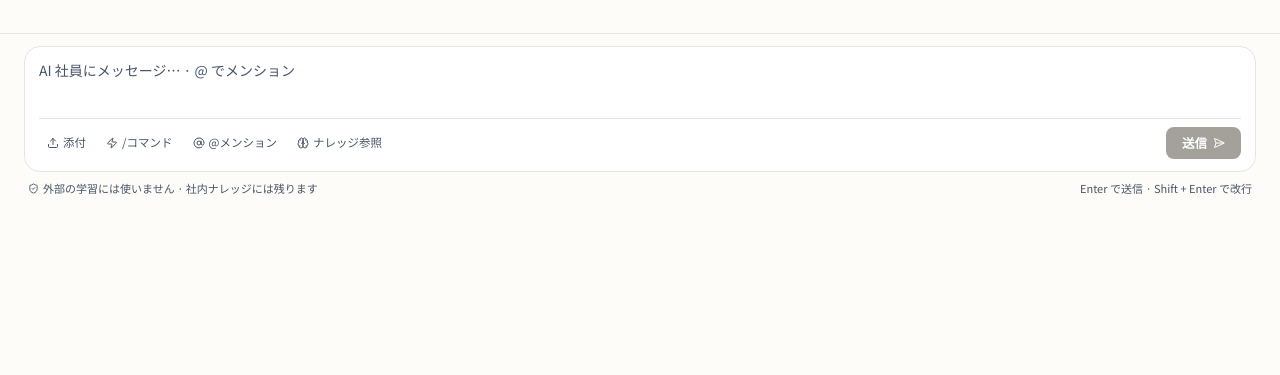
Scenario: S-E01 ChatContainer (T-UC-08) › shows inline error on an error chunk
In the text box named "メッセージを入力": (640, 82) [39,59,1241,104], type "test"
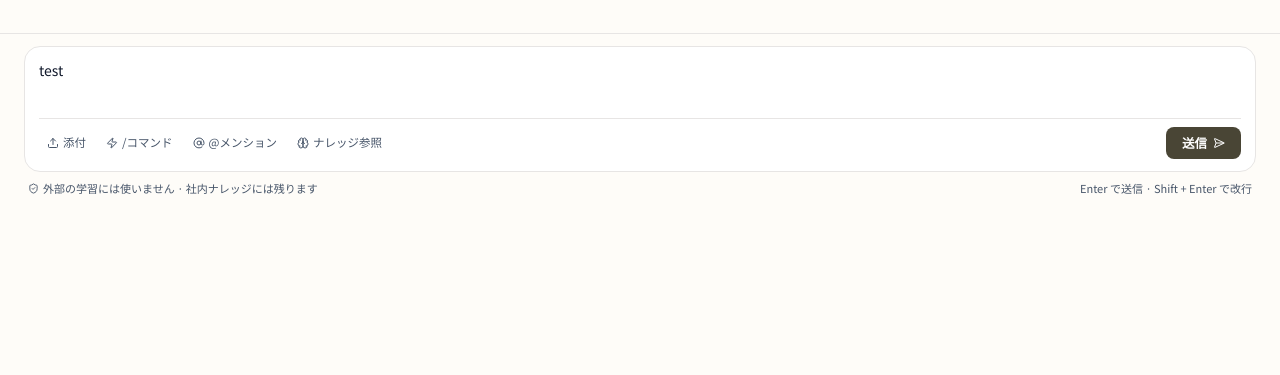
Click the button "送信": click(1204, 143) [1166,126,1241,159]
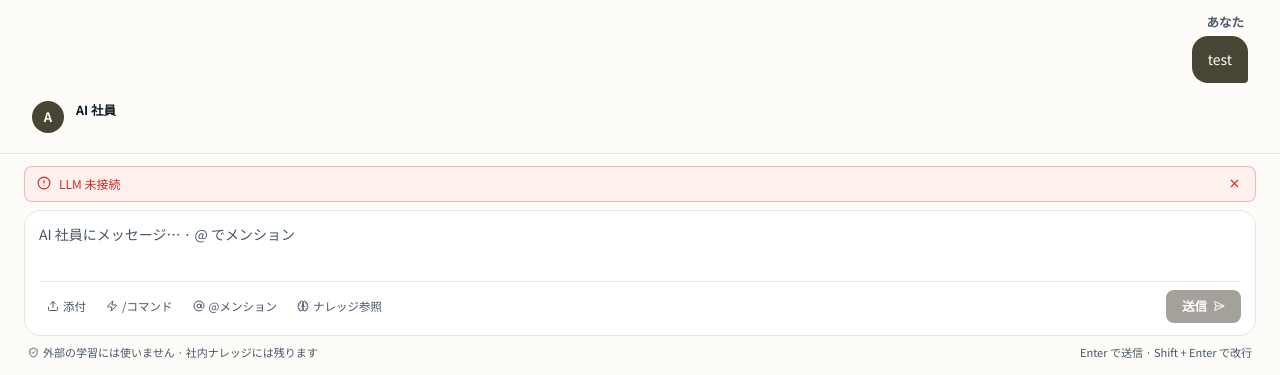
Expected: the message reads "LLM 未接続", [59,174,120,192]
